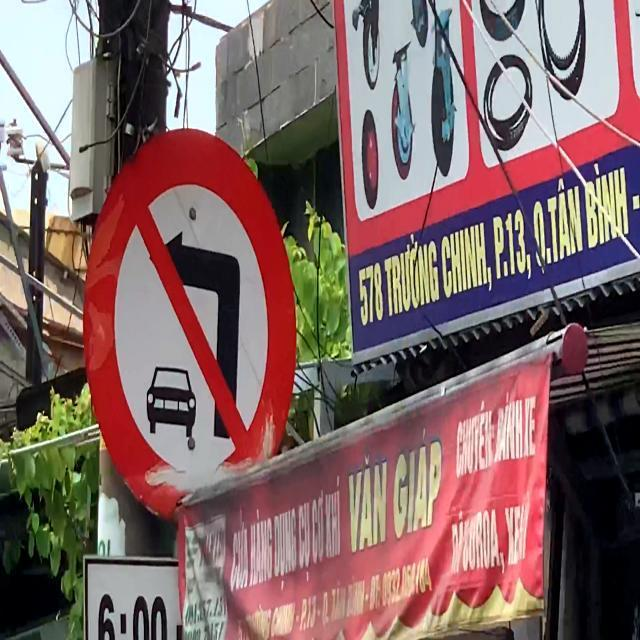123a-cam-re-trai: (80, 126, 296, 522)
